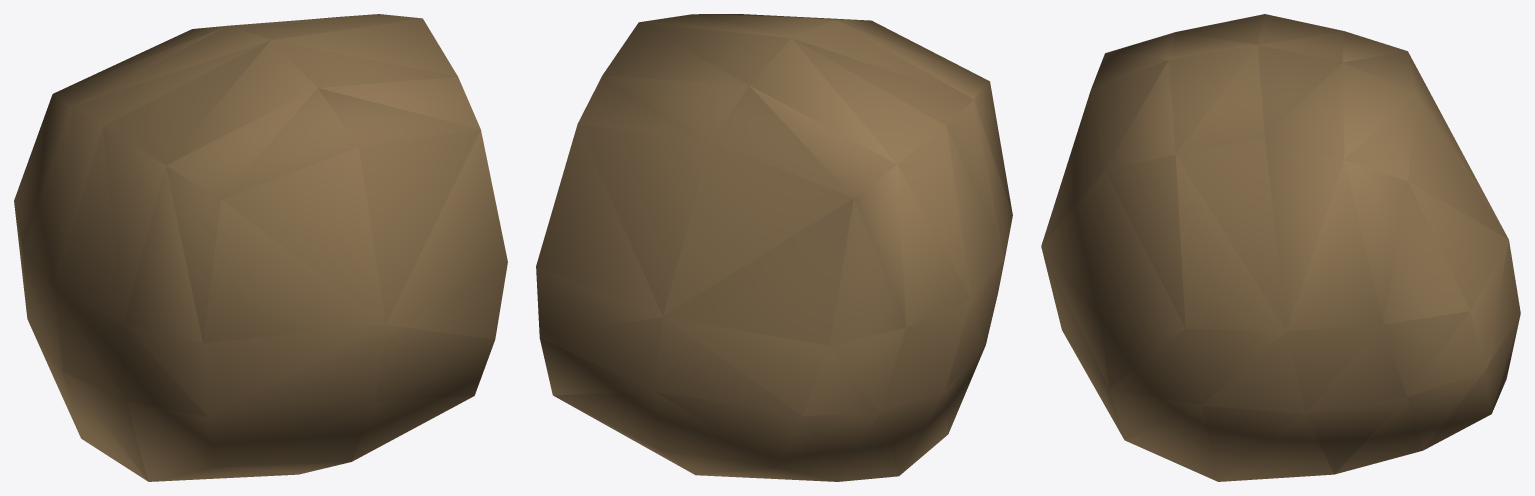
The model's file is SmallSandChunk.006.glb.
3 views of the same model, side by side, from view 1: azimuth 30°, elevation 25°; view 2: azimuth 150°, elevation 25°; view 3: azimuth 270°, elevation 25° (orthographic). The views are drawn at different scales.
Parts seen in each view (by area): view 1: SmallSandChunk.006; view 2: SmallSandChunk.006; view 3: SmallSandChunk.006.
Part boxes in pixels (x1,y1,x2,y2): SmallSandChunk.006: (14, 14, 507, 481); SmallSandChunk.006: (536, 14, 1012, 481); SmallSandChunk.006: (1041, 14, 1520, 481).
Bounding box in the file's own units: 265 × 264 × 279.
